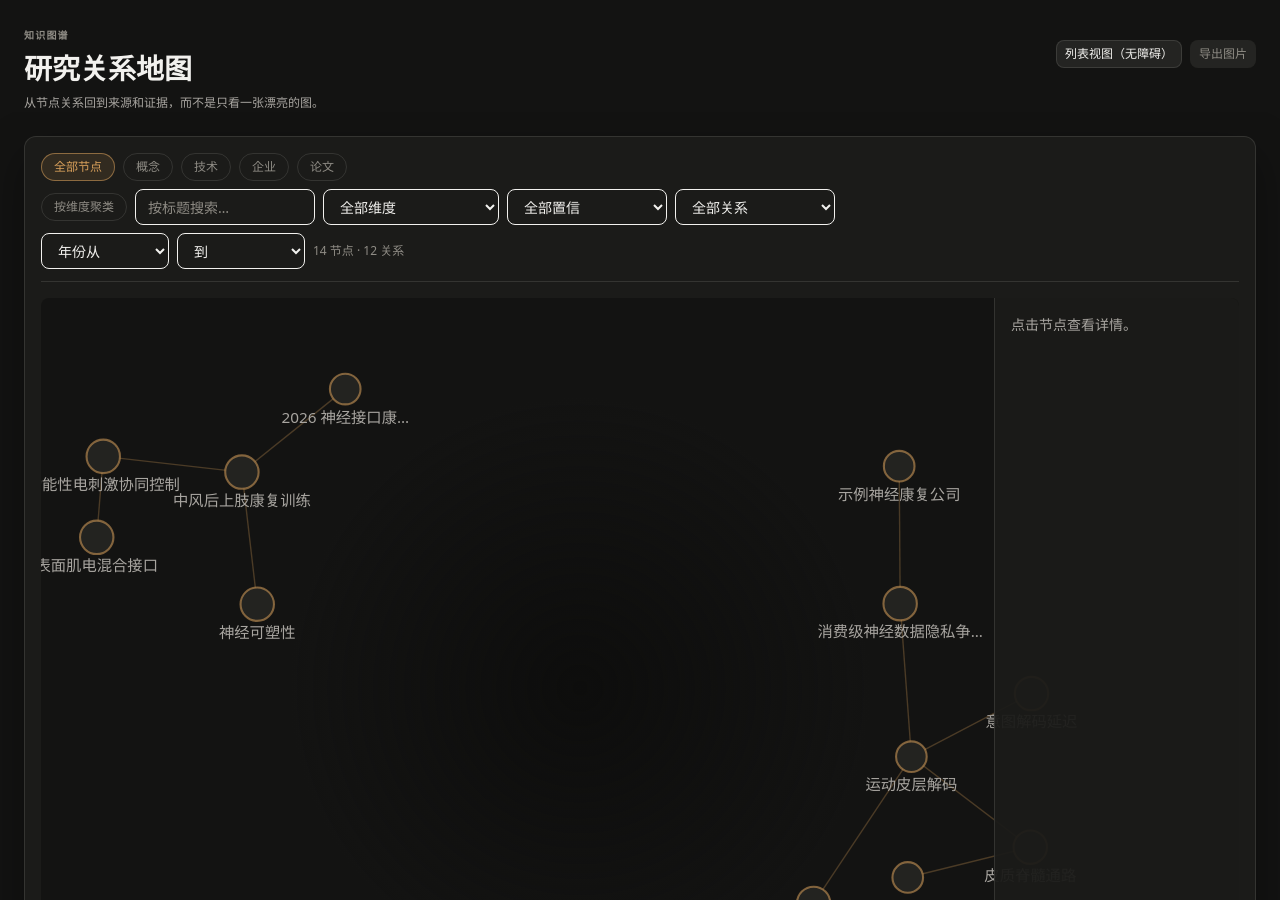
Test case: GraphPage › confidence band filter narrows nodes to the selected state
expect the button "运动皮层解码" is shown: met, box [865, 774, 957, 794]
Select "已确认" in the dropdown named "按置信状态过滤": (587, 207) [507, 189, 667, 225]
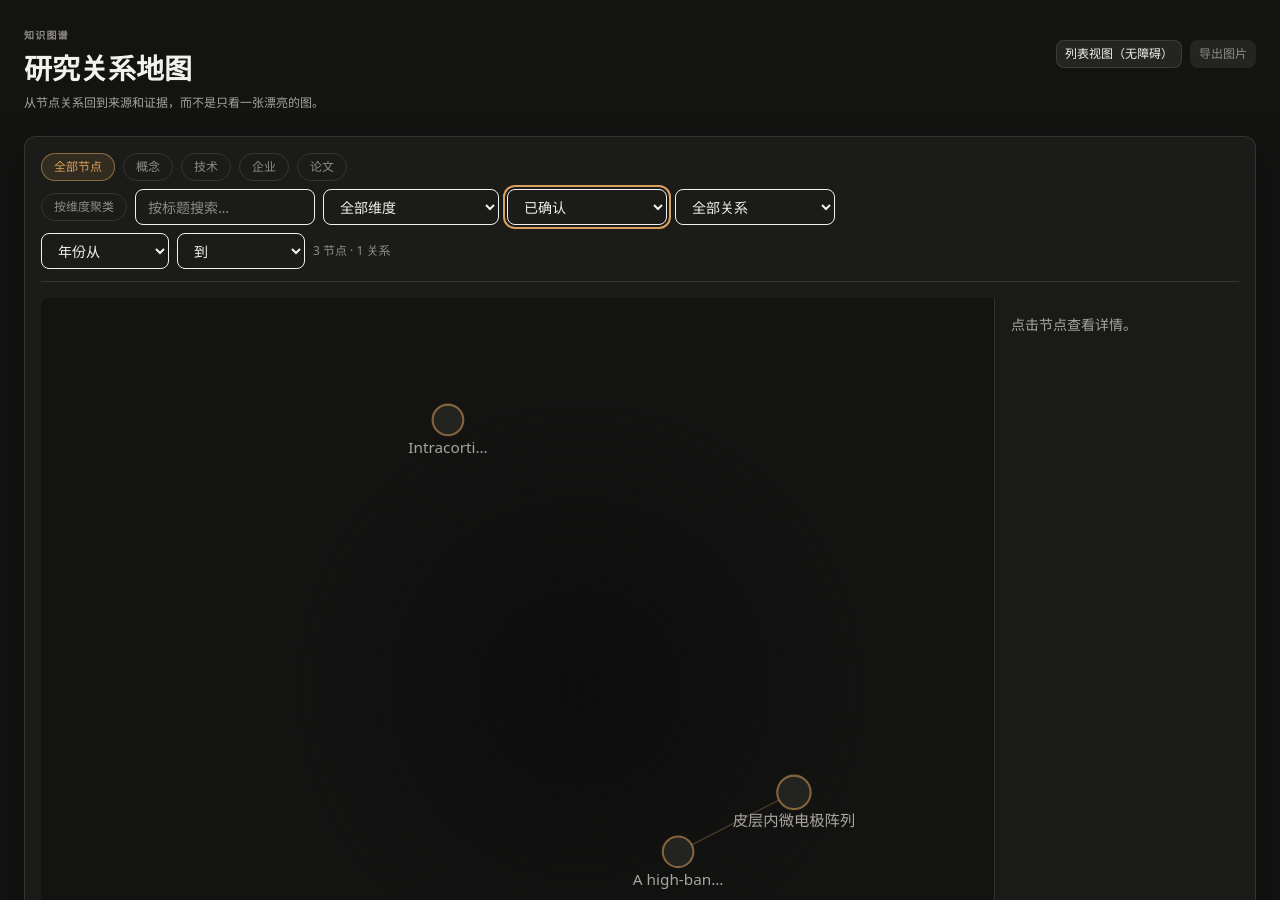
expect the button "皮层内微电极阵列" is shown: met, box [733, 810, 855, 830]
expect the text "3 节点 · 1 关系" is shown: met, box [313, 242, 390, 260]
Select "全部置信" in the dropdown named "按置信状态过滤": (587, 207) [507, 189, 667, 225]
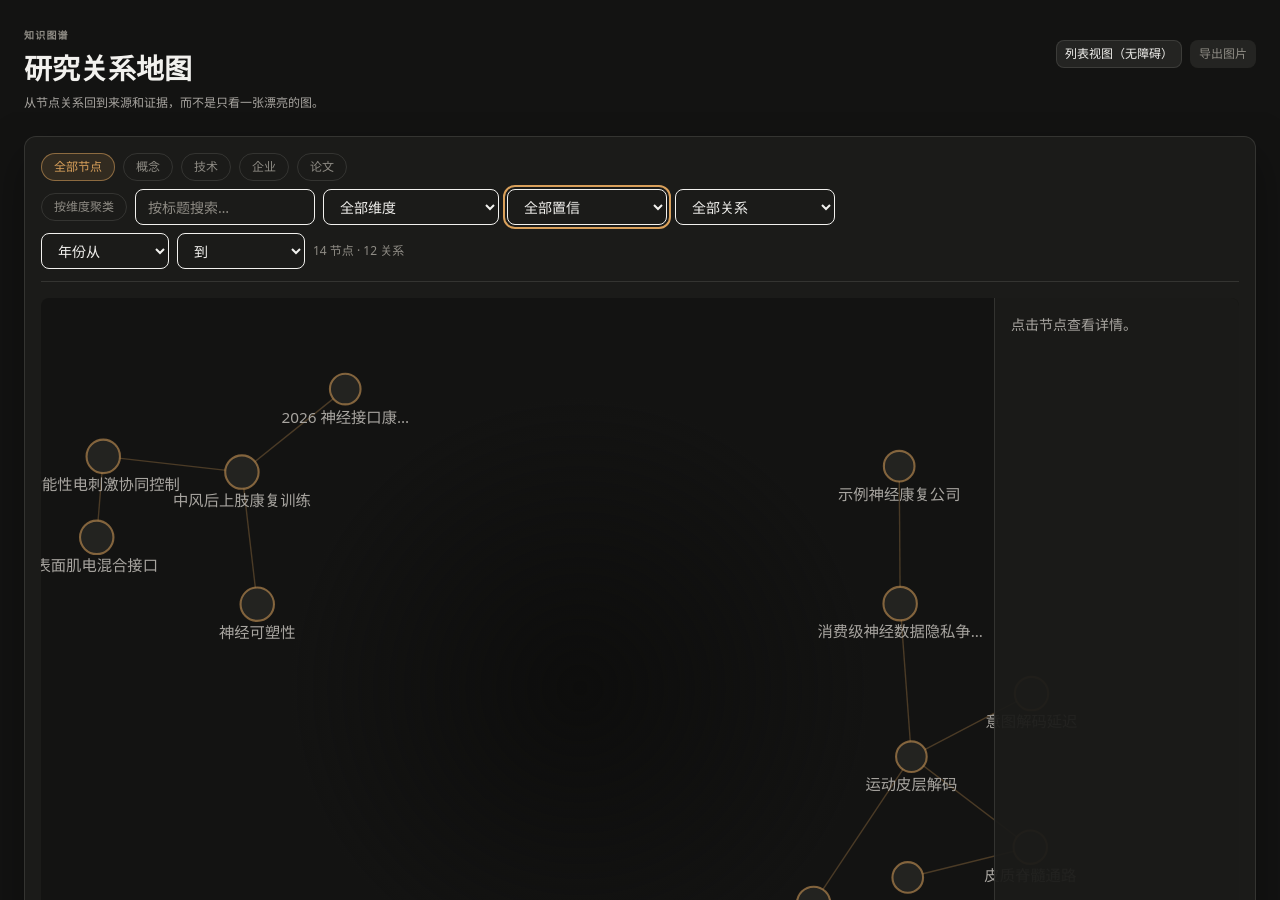
expect the text "14 节点 · 12 关系" is shown: met, box [313, 242, 404, 260]
